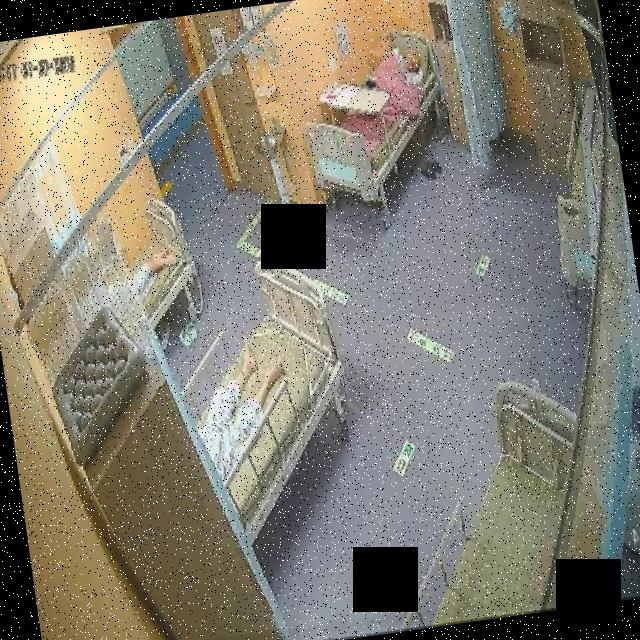bed: (368, 368, 603, 632), (174, 252, 364, 544), (296, 28, 454, 208), (120, 195, 202, 331)
lie: (183, 328, 297, 484), (340, 36, 434, 132)
patient: (185, 329, 296, 484), (386, 38, 428, 94)
